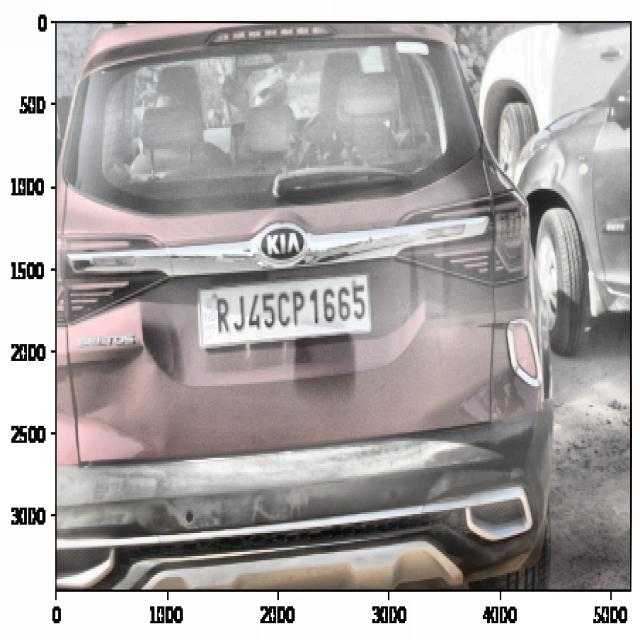license_plate: (207, 278, 368, 344)
